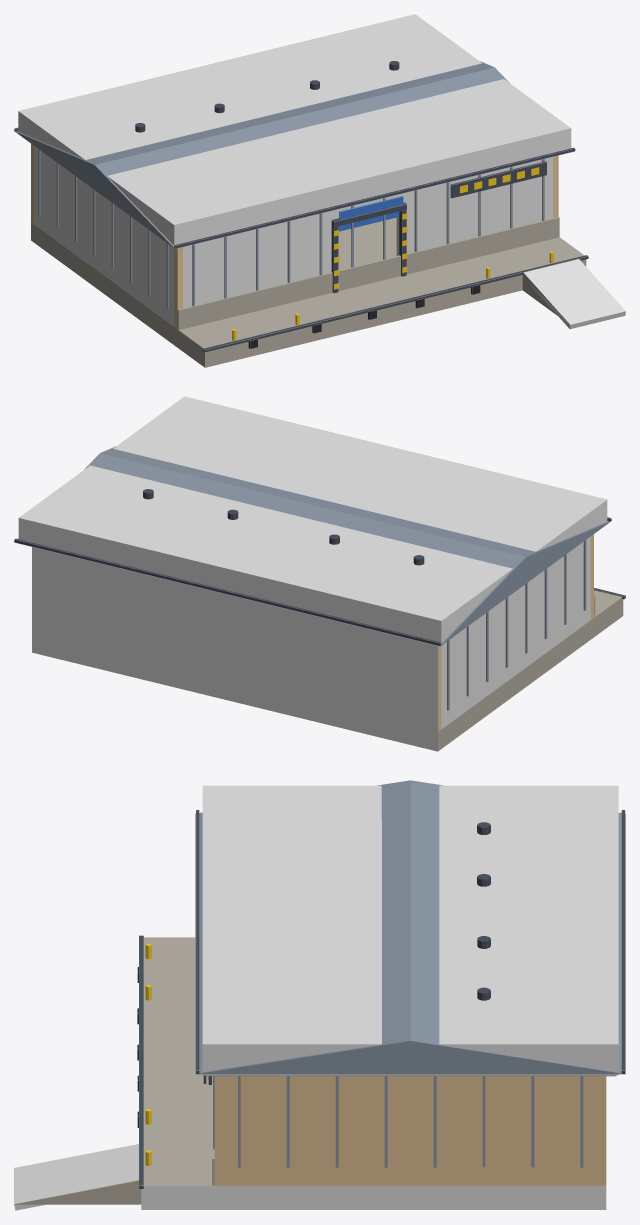
Rendered from bld_warehouse_a.glb.
3 renders of one model, top to bottom at view 1: azimuth 30°, elevation 25°; view 2: azimuth 150°, elevation 25°; view 3: azimuth 270°, elevation 25°, orthographic. The views are drawn at different scales.
Visible parts, largest first — view 1: COL_bld_warehouse_a_9, bld_warehouse_a, COL_bld_warehouse_a_3, COL_bld_warehouse_a_6, COL_bld_warehouse_a_7, COL_bld_warehouse_a_2; view 2: COL_bld_warehouse_a_9, COL_bld_warehouse_a_5, bld_warehouse_a, COL_bld_warehouse_a_3, COL_bld_warehouse_a_1; view 3: COL_bld_warehouse_a_9, bld_warehouse_a, COL_bld_warehouse_a_1, COL_bld_warehouse_a_2.
Boxes of the visible parts, <box> form: COL_bld_warehouse_a_9: <box>18,14,571,245</box>; bld_warehouse_a: <box>14,61,588,367</box>; COL_bld_warehouse_a_3: <box>34,146,174,326</box>; COL_bld_warehouse_a_6: <box>183,210,336,307</box>; COL_bld_warehouse_a_7: <box>396,157,552,255</box>; COL_bld_warehouse_a_2: <box>524,259,625,329</box>; COL_bld_warehouse_a_9: <box>18,396,607,642</box>; COL_bld_warehouse_a_5: <box>32,547,437,731</box>; bld_warehouse_a: <box>14,446,625,751</box>; COL_bld_warehouse_a_3: <box>432,537,590,731</box>; COL_bld_warehouse_a_1: <box>32,633,437,751</box>; COL_bld_warehouse_a_9: <box>202,785,618,1075</box>; bld_warehouse_a: <box>15,780,625,1204</box>; COL_bld_warehouse_a_1: <box>141,1185,606,1209</box>; COL_bld_warehouse_a_2: <box>14,1144,138,1210</box>.
Bounding box in the file's own units: 25.2 × 8.29 × 25.01.
